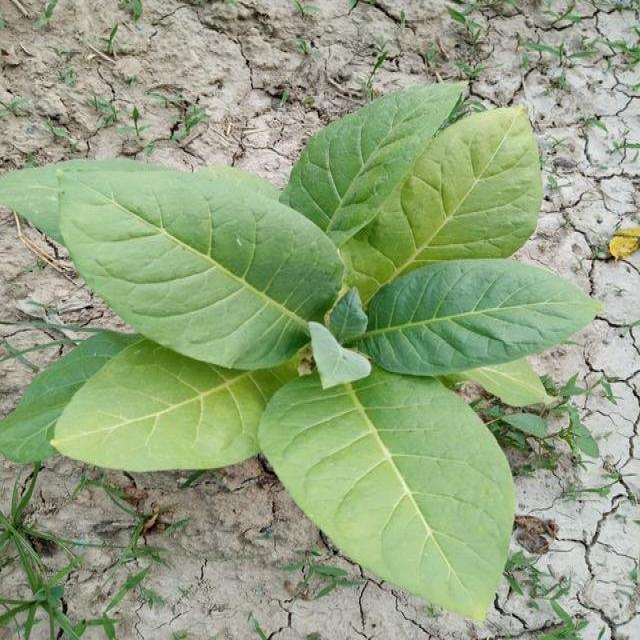crop: (0, 90, 587, 614)
